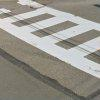Crosswalk: (2, 3, 100, 74)
